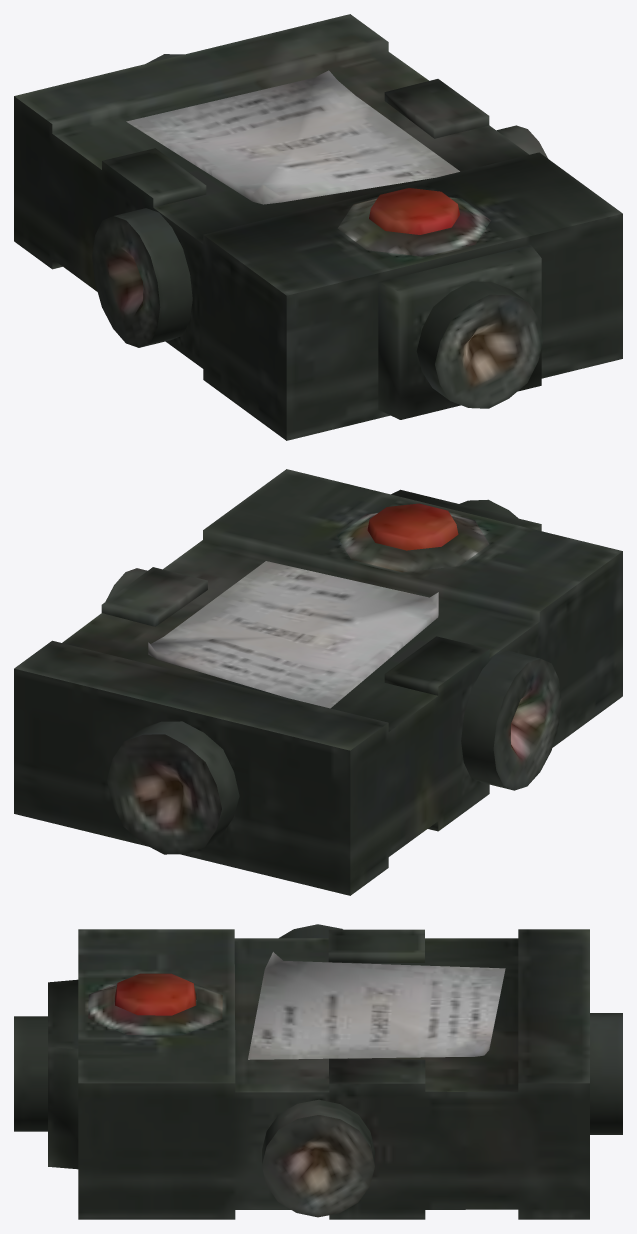
File: sign_controlbox.glb
The picture shows the model from 3 angles, top to bottom: view 1: azimuth 30°, elevation 25°; view 2: azimuth 150°, elevation 25°; view 3: azimuth 270°, elevation 25°; orthographic projection. The views are drawn at different scales.
Parts seen in each view (by area): view 1: xmas_controlbox_LOD0; view 2: xmas_controlbox_LOD0; view 3: xmas_controlbox_LOD0.
Part boxes in pixels (left/top/right/bottom): xmas_controlbox_LOD0: left=14, top=14, right=622, bottom=440; xmas_controlbox_LOD0: left=14, top=469, right=622, bottom=895; xmas_controlbox_LOD0: left=14, top=924, right=622, bottom=1219.
Bounding box in the file's own units: 0.1578 × 0.0613 × 0.2207.
1 material, 1 textured.
